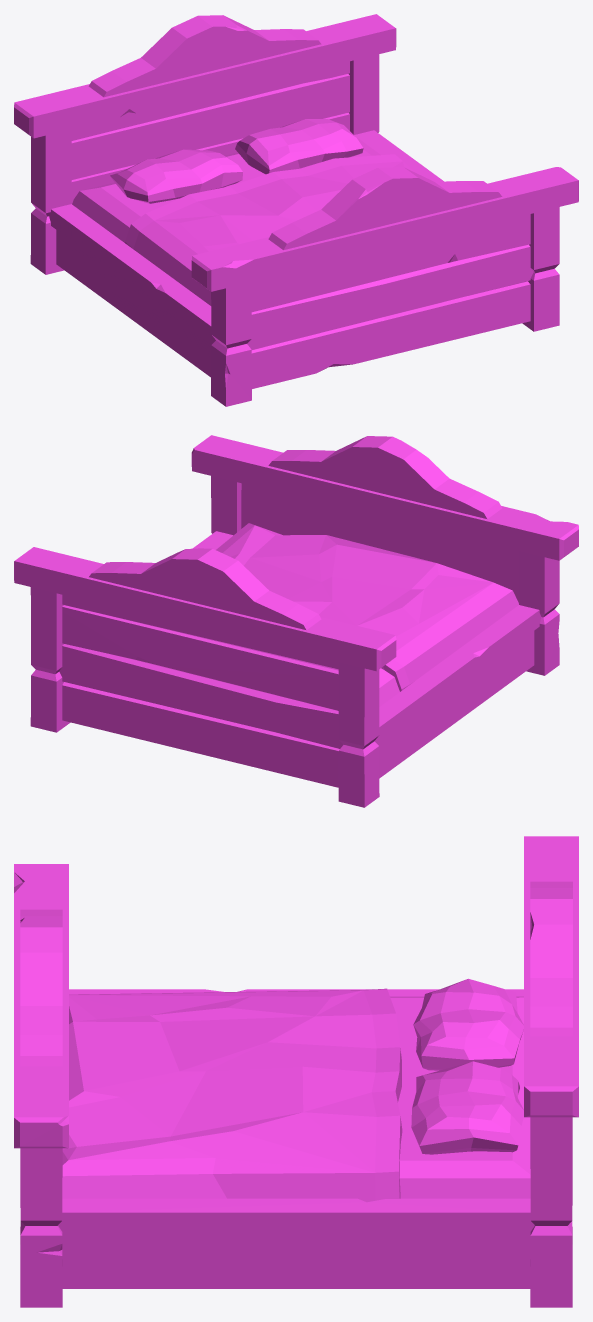
File: SM_Bed_Simple_Fantasy.fbx
3 views of the same model, one above another, from view 1: azimuth 30°, elevation 25°; view 2: azimuth 150°, elevation 25°; view 3: azimuth 270°, elevation 25° (orthographic). The views are drawn at different scales.
Visible parts, largest first — view 1: SM_Bed_Simple_Fantasy; view 2: SM_Bed_Simple_Fantasy; view 3: SM_Bed_Simple_Fantasy.
Boxes of the visible parts, <box> form: SM_Bed_Simple_Fantasy: <box>14,14,578,406</box>; SM_Bed_Simple_Fantasy: <box>14,435,578,807</box>; SM_Bed_Simple_Fantasy: <box>14,836,578,1307</box>.
Bounding box in the file's own units: 2.44 × 1.3 × 2.27.
